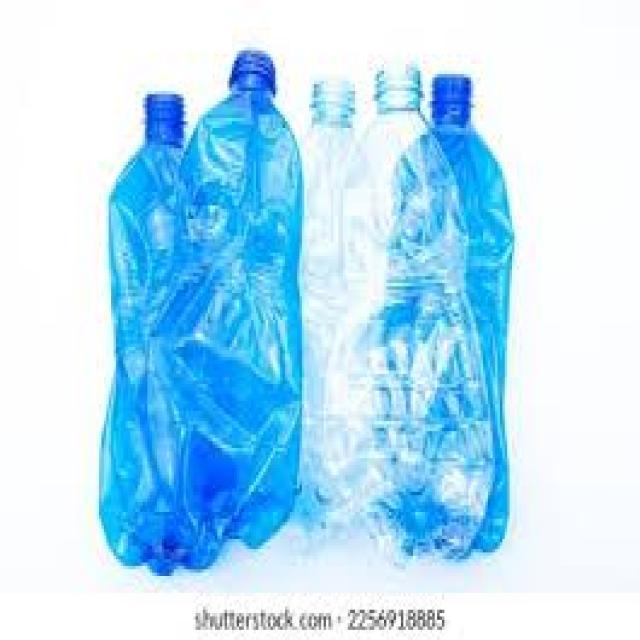Plastic: (91, 72, 201, 580), (421, 57, 525, 564)
